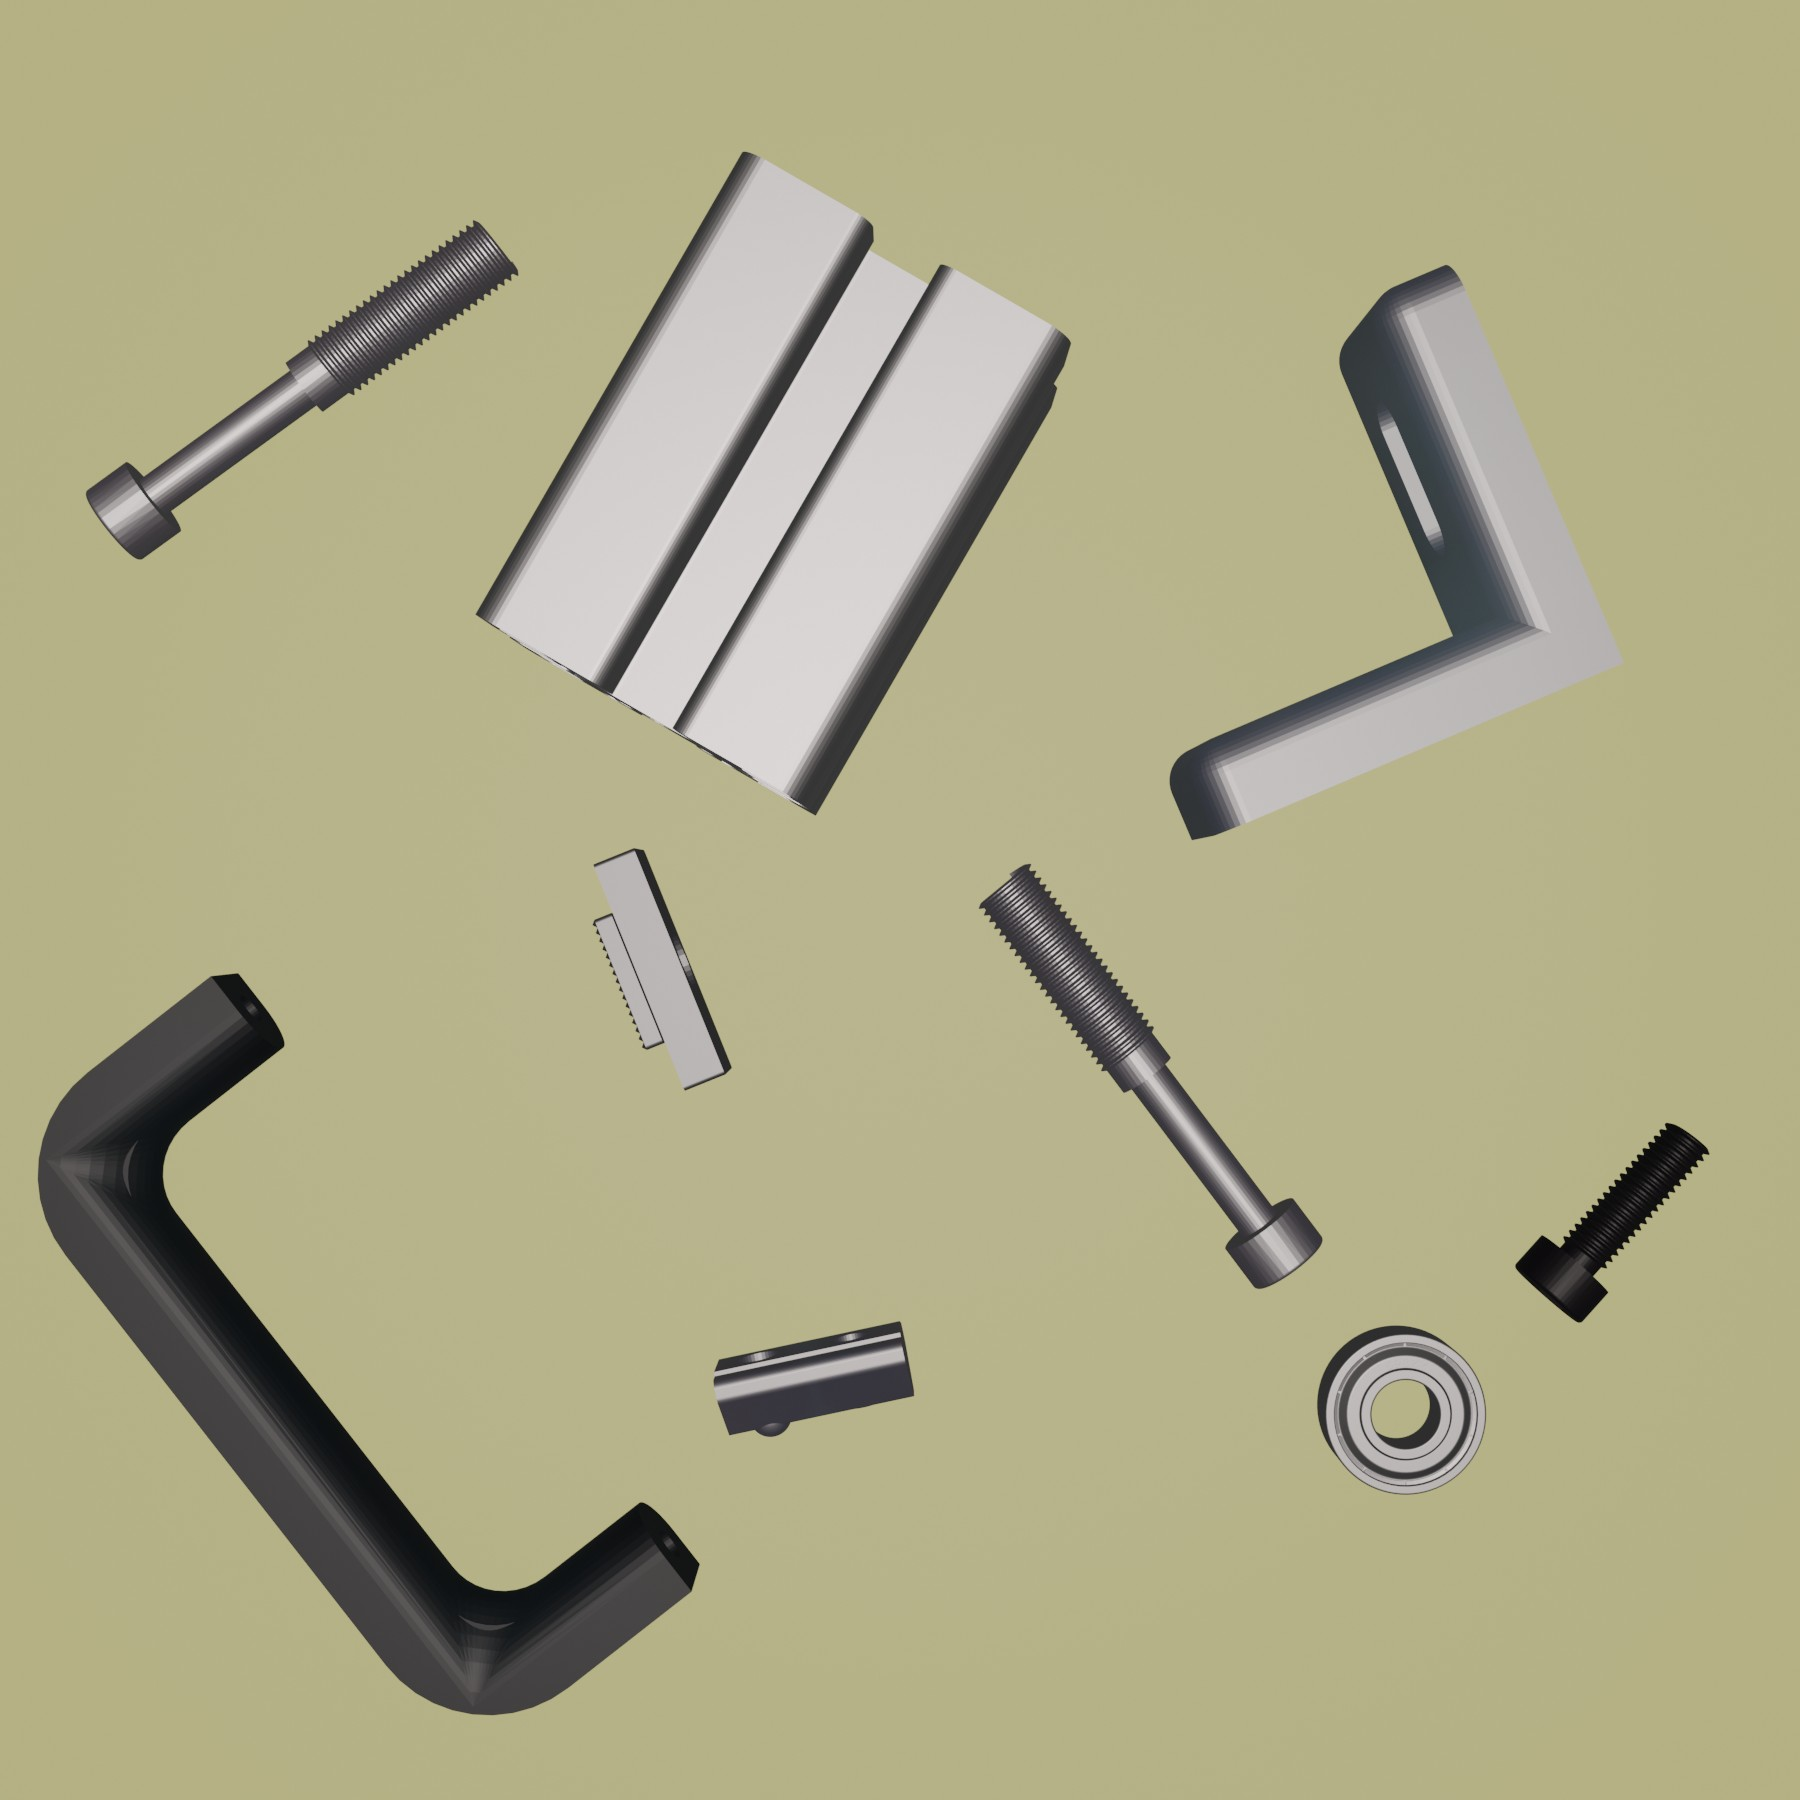Aluminium Extension: (475, 148, 1073, 819)
Ball Bearing: (1315, 1324, 1490, 1497)
Multiwinkel: (1169, 259, 1627, 846)
Pull Handle: (35, 969, 701, 1716)
Shoulder Socket Head Cap Screw: (82, 216, 519, 562), (974, 859, 1324, 1291)
Socket Head Cap Screw: (1513, 1119, 1711, 1324)
T Nut Square: (588, 842, 734, 1093)
T Spring Nut: (710, 1315, 916, 1439)
